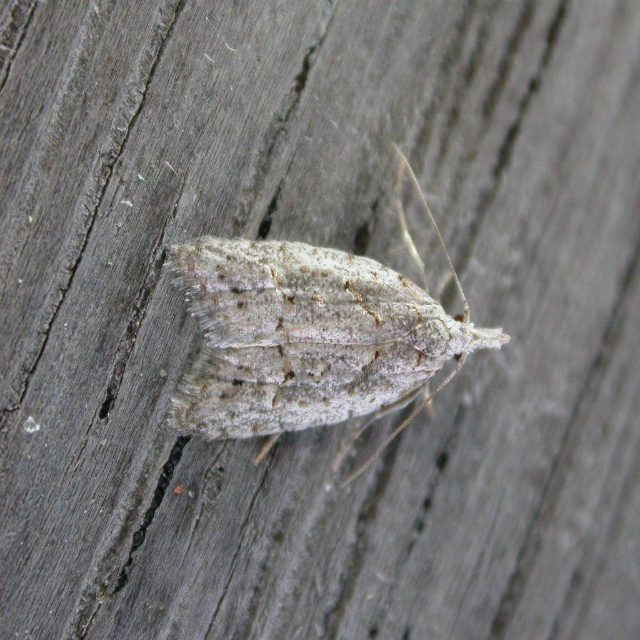Moths and butterflies: (164, 142, 512, 492)
